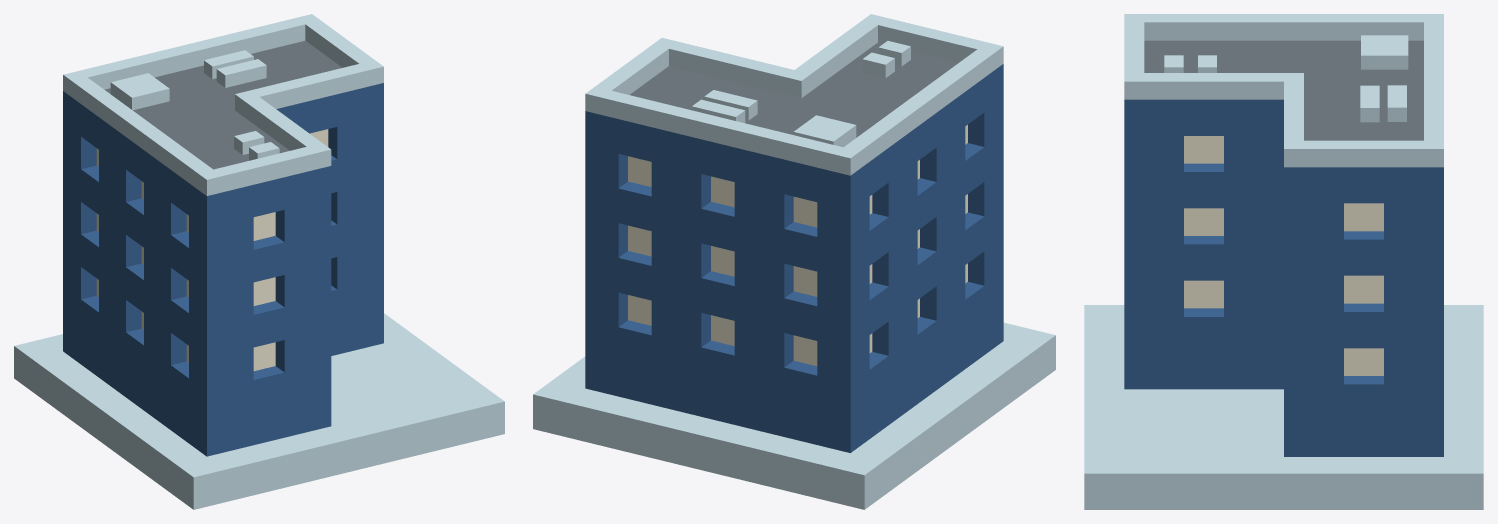
The model's file is Building_3_Base_Extra (Blue).obj.
3 views of the same model, side by side, from view 1: azimuth 30°, elevation 25°; view 2: azimuth 150°, elevation 25°; view 3: azimuth 270°, elevation 25° (orthographic). The views are drawn at different scales.
Visible parts, largest first — view 1: Building_3_Base_Extra_(Blue); view 2: Building_3_Base_Extra_(Blue); view 3: Building_3_Base_Extra_(Blue).
Part boxes in pixels (x1,y1,x2,y2): Building_3_Base_Extra_(Blue): [14, 14, 504, 509]; Building_3_Base_Extra_(Blue): [533, 14, 1055, 509]; Building_3_Base_Extra_(Blue): [1084, 14, 1483, 509].
Size of the model in its own units: 2 by 1.9 by 2.
